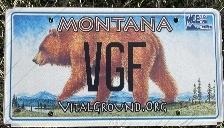F: (126, 39, 148, 95)
G: (104, 40, 126, 93)
V: (80, 39, 104, 93)
